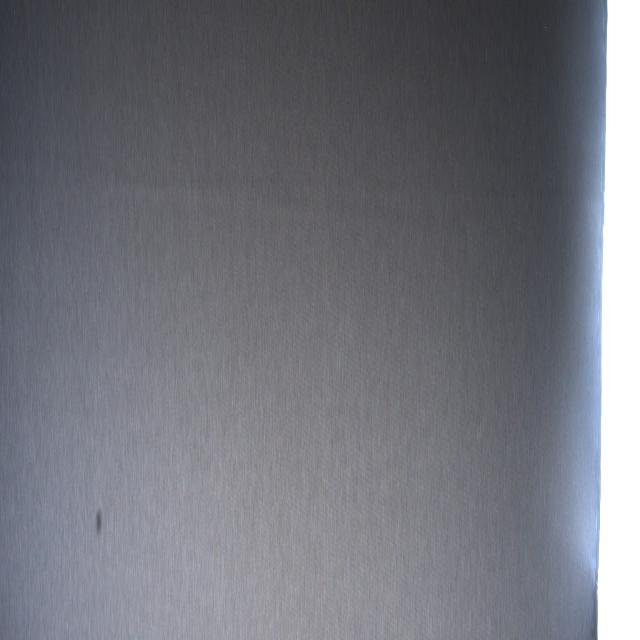crease: (102, 145, 607, 229)
